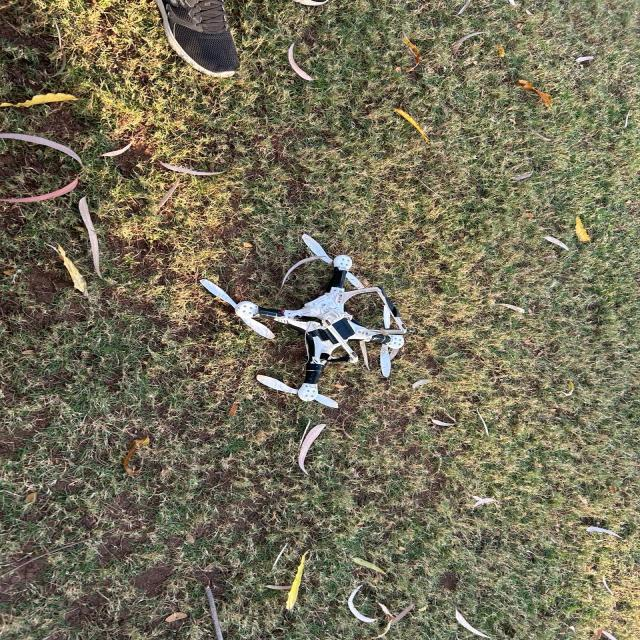drone: (160, 205, 496, 469)
